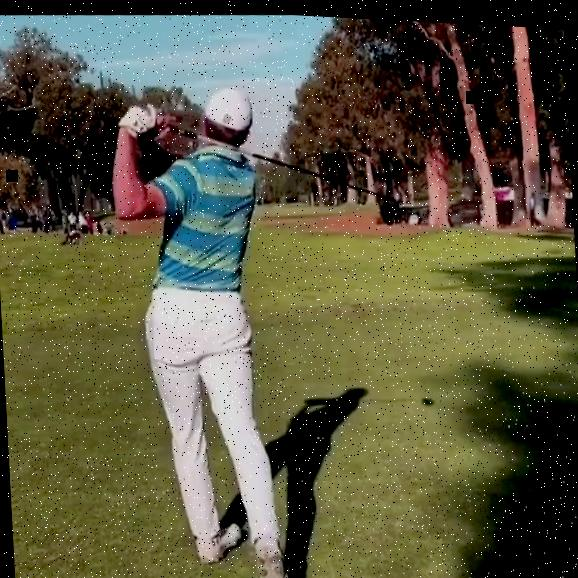ClubHead: (380, 191, 400, 221)
